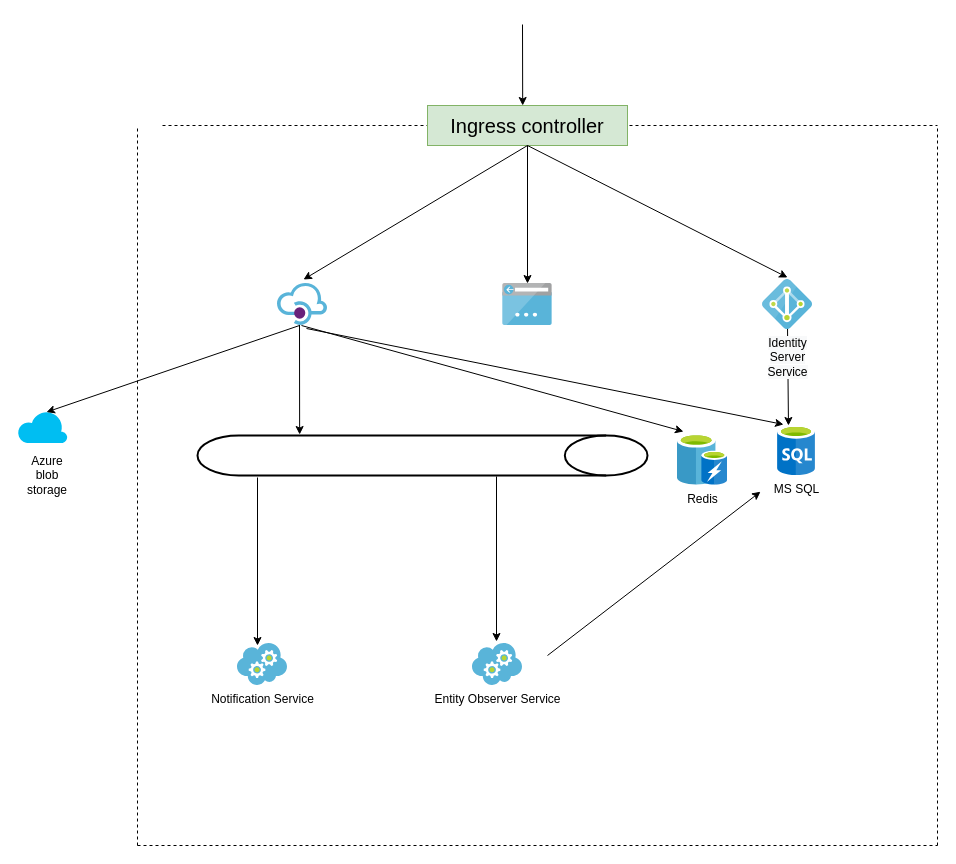
Image size: 956x864. Some labels were removed from this diagram. The centre of each missing label's shape, as x and y in pixels:
API Service: point 302,304
Front Service: point 527,304
RABBIT MQ: point 422,455
